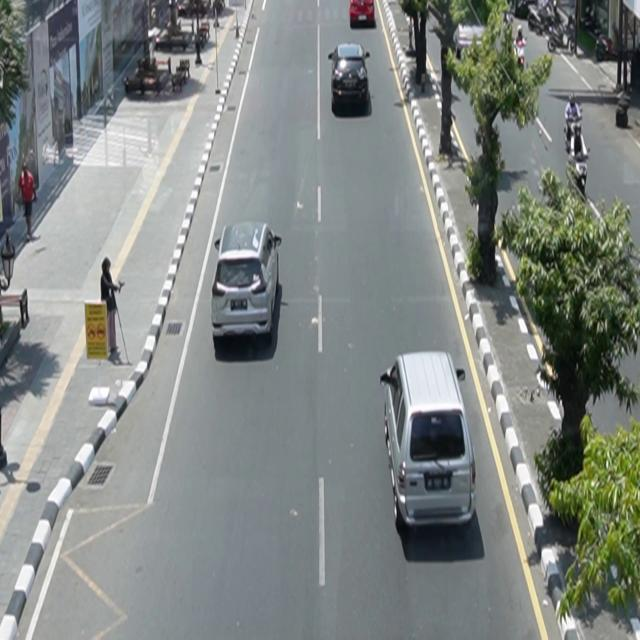car: (380, 351, 478, 532), (212, 221, 283, 341), (329, 43, 371, 108), (350, 1, 376, 29)
